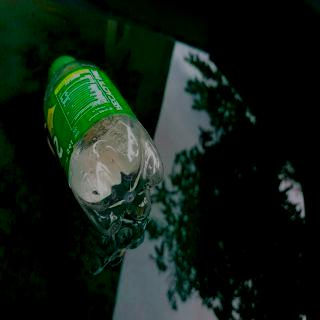bottle: (43, 53, 163, 238)
